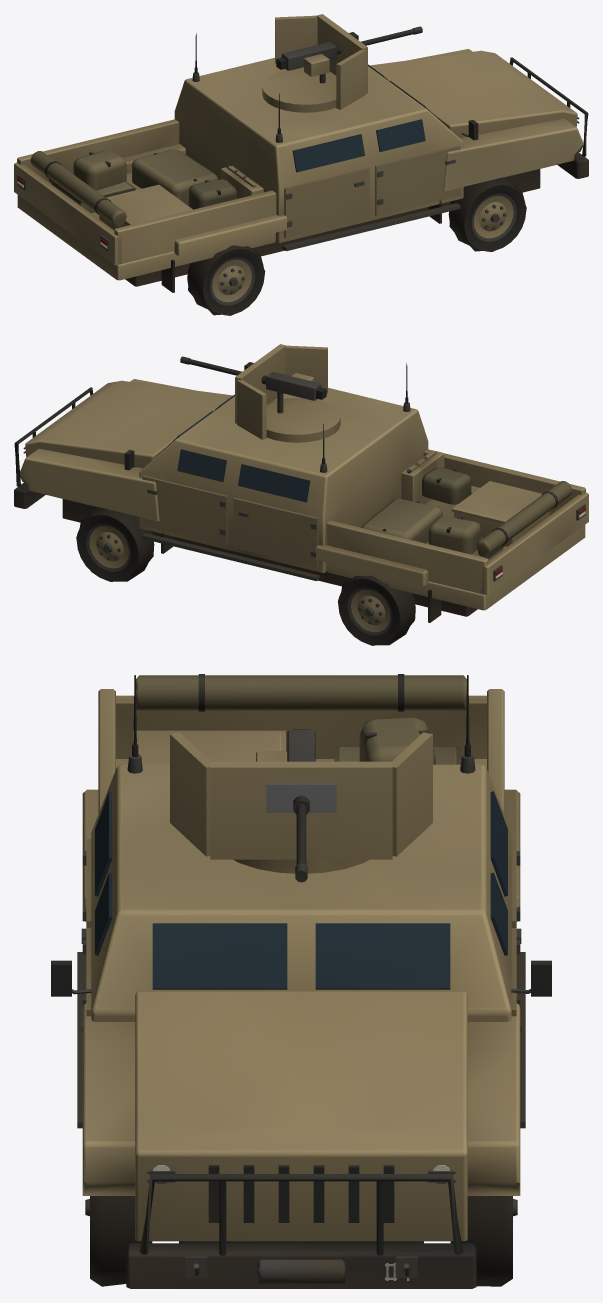
File: jltv.glb
3 views of the same model, one above another, from view 1: azimuth 30°, elevation 25°; view 2: azimuth 150°, elevation 25°; view 3: azimuth 270°, elevation 25° (orthographic). The views are drawn at different scales.
Parts seen in each view (by area): view 1: hull, turret, wheel_R0, wheel_R1, gun; view 2: hull, turret, wheel_L0, wheel_L1, gun; view 3: hull, turret, wheel_L0, wheel_R0, gun.
Boxes of the visible parts, left/top/right/bottom form: hull: left=14, top=32, right=588, bottom=292; turret: left=262, top=14, right=367, bottom=112; wheel_R0: left=448, top=177, right=526, bottom=251; wheel_R1: left=187, top=245, right=265, bottom=315; gun: left=276, top=26, right=422, bottom=76; hull: left=14, top=362, right=588, bottom=622; turret: left=235, top=344, right=340, bottom=442; wheel_L0: left=76, top=507, right=154, bottom=581; wheel_L1: left=338, top=575, right=415, bottom=645; gun: left=180, top=356, right=326, bottom=400; hull: left=51, top=674, right=551, bottom=1288; turret: left=170, top=732, right=432, bottom=873; wheel_L0: left=450, top=1196, right=517, bottom=1286; wheel_R0: left=85, top=1196, right=152, bottom=1286; gun: left=256, top=729, right=315, bottom=882.
Size of the model in its own units: 6.53 by 2.63 by 2.86.
